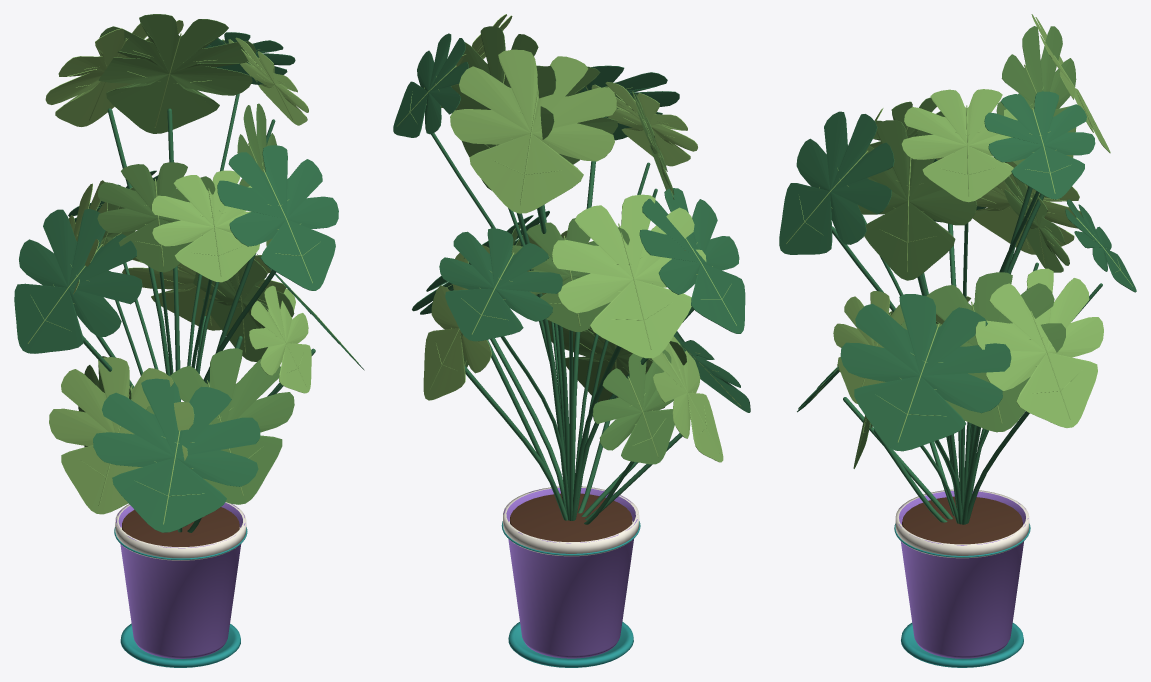
File: big_plant.glb
3 renders of one model, left to right at view 1: azimuth 30°, elevation 25°; view 2: azimuth 150°, elevation 25°; view 3: azimuth 270°, elevation 25°, orthographic. The views are drawn at different scales.
Parts seen in each view (by area): view 1: Split_monstera_leaf.005, Split_monstera_leaf.002, Split_monstera_leaf.009, Split_monstera_leaf.008, Hollow_ceramic_pot, Split_monstera_leaf.010, Split_monstera_leaf, Split_monstera_leaf.013, Split_monstera_leaf.018, Split_monstera_leaf.016, Split_monstera_leaf.004, Split_monstera_leaf.006 (+13 smaller); view 2: Split_monstera_leaf.004, Split_monstera_leaf.007, Hollow_ceramic_pot, Split_monstera_leaf.017, Split_monstera_leaf.002, Split_monstera_leaf.015, Split_monstera_leaf.014, Split_monstera_leaf.001, Split_monstera_leaf.010, Soil_insert, Split_monstera_leaf.009, Split_monstera_leaf.013 (+20 smaller); view 3: Split_monstera_leaf.011, Hollow_ceramic_pot, Split_monstera_leaf.001, Split_monstera_leaf.008, Split_monstera_leaf.003, Split_monstera_leaf.019, Split_monstera_leaf.014, Split_monstera_leaf.006, Soil_insert, Split_monstera_leaf.009, Split_monstera_leaf.007, Split_monstera_leaf.012 (+13 smaller).
Part boxes in pixels (x1,y1,x2,y2): Split_monstera_leaf.005: (93, 378, 260, 532); Split_monstera_leaf.002: (14, 209, 142, 353); Split_monstera_leaf.009: (98, 14, 256, 133); Split_monstera_leaf.008: (217, 145, 338, 290); Hollow_ceramic_pot: (116, 502, 245, 658); Split_monstera_leaf.010: (49, 357, 194, 514); Split_monstera_leaf: (146, 348, 294, 504); Split_monstera_leaf.013: (151, 170, 259, 282); Split_monstera_leaf.018: (97, 162, 219, 272); Split_monstera_leaf.016: (249, 285, 311, 393); Split_monstera_leaf.004: (45, 20, 183, 126); Split_monstera_leaf.006: (193, 259, 294, 361); Split_monstera_leaf.004: (450, 49, 616, 213); Split_monstera_leaf.007: (552, 194, 706, 358); Hollow_ceramic_pot: (503, 488, 637, 658); Split_monstera_leaf.017: (439, 228, 562, 341); Split_monstera_leaf.002: (639, 188, 745, 333); Split_monstera_leaf.015: (592, 349, 674, 464); Split_monstera_leaf.014: (393, 33, 468, 137); Split_monstera_leaf.001: (423, 245, 491, 400); Split_monstera_leaf.010: (651, 336, 723, 462); Soil_insert: (510, 493, 632, 541); Split_monstera_leaf.009: (451, 26, 556, 190); Split_monstera_leaf.013: (591, 82, 697, 166); Split_monstera_leaf.011: (840, 294, 1011, 451); Hollow_ceramic_pot: (898, 490, 1028, 658); Split_monstera_leaf.001: (975, 268, 1103, 427); Split_monstera_leaf.008: (779, 111, 894, 254); Split_monstera_leaf.003: (858, 120, 977, 280); Split_monstera_leaf.019: (901, 89, 1017, 202); Split_monstera_leaf.014: (984, 91, 1095, 199); Split_monstera_leaf.006: (900, 272, 1065, 432); Soil_insert: (902, 496, 1022, 544); Split_monstera_leaf.009: (996, 26, 1076, 165); Split_monstera_leaf.007: (936, 157, 1082, 254); Split_monstera_leaf.012: (1004, 174, 1069, 272).
Size of the model in its own units: 1.19 by 2.21 by 1.16.
